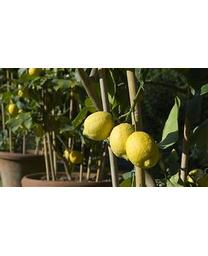lemon: (125, 130, 160, 169), (110, 123, 133, 159), (84, 112, 113, 139)
